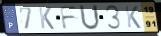3: (104, 4, 122, 31)
7: (19, 7, 34, 31)
F: (58, 5, 79, 31)
K: (37, 6, 56, 31), (124, 5, 142, 30)
U: (78, 4, 102, 32)
